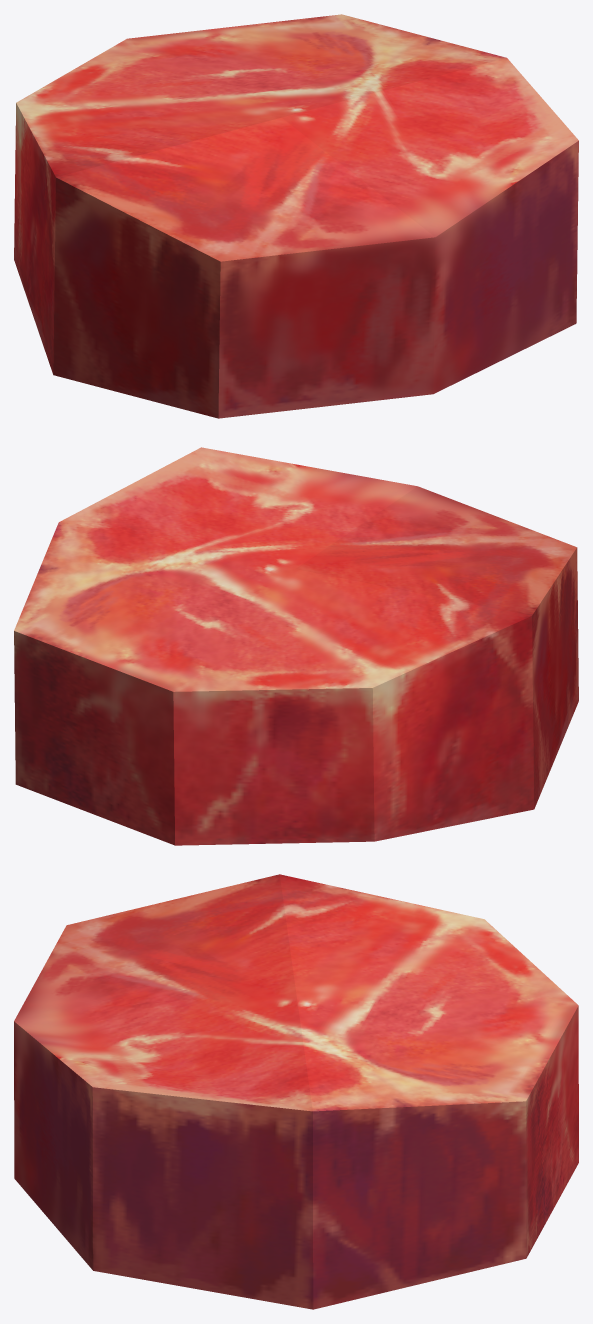
File: 08_meat_piece_06.obj
The picture shows the model from 3 angles, top to bottom: view 1: azimuth 30°, elevation 25°; view 2: azimuth 150°, elevation 25°; view 3: azimuth 270°, elevation 25°; orthographic projection. The views are drawn at different scales.
Visible parts, largest first — view 1: 08_meat_piece_06; view 2: 08_meat_piece_06; view 3: 08_meat_piece_06.
Boxes of the visible parts, x1,y1,x2,y2 form: 08_meat_piece_06: (14, 14, 578, 418); 08_meat_piece_06: (14, 447, 578, 845); 08_meat_piece_06: (14, 874, 578, 1309).
Bounding box in the file's own units: 0.6651 × 0.2755 × 0.6849.
1 material, 1 textured.
